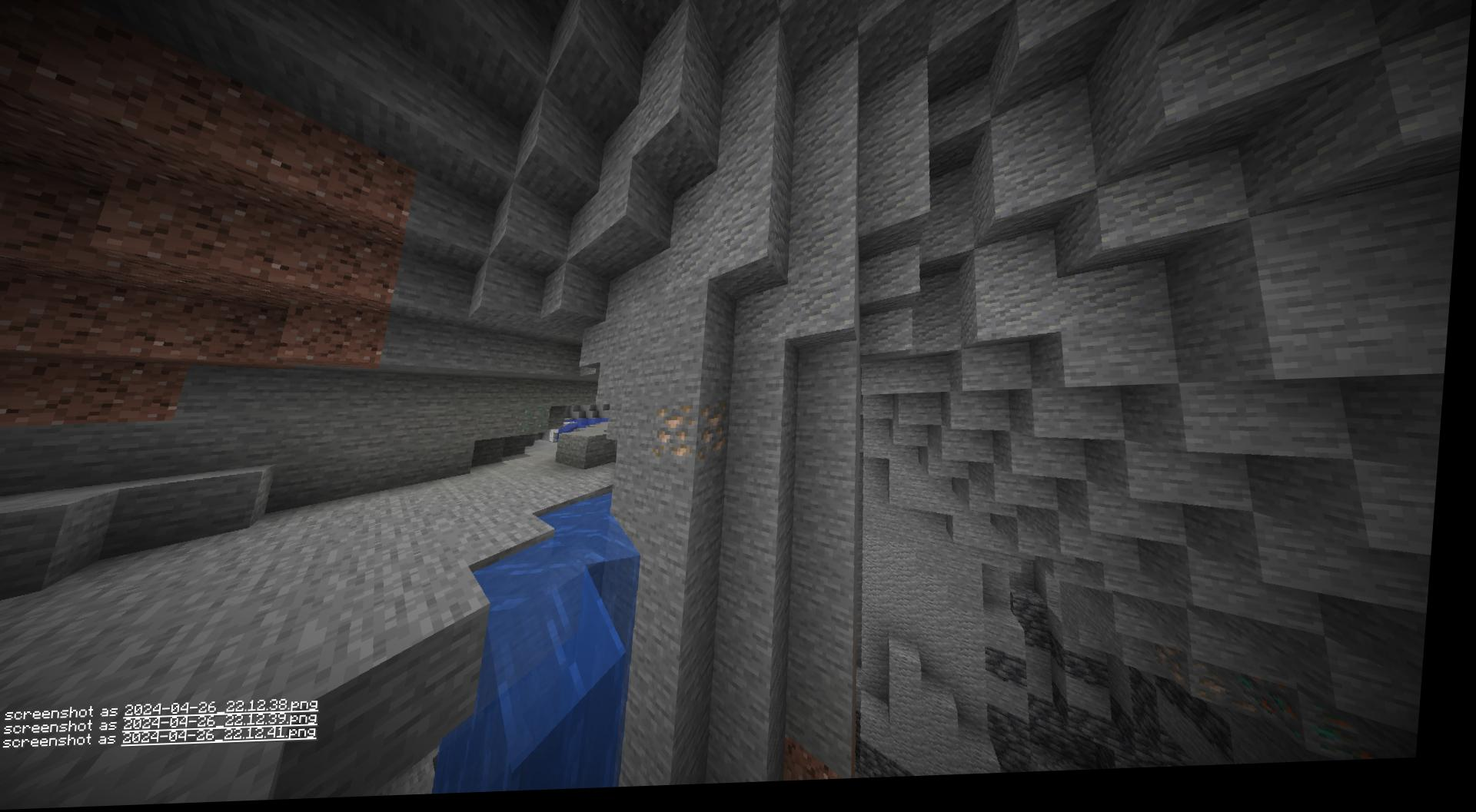iron ore: (658, 406, 735, 467)
